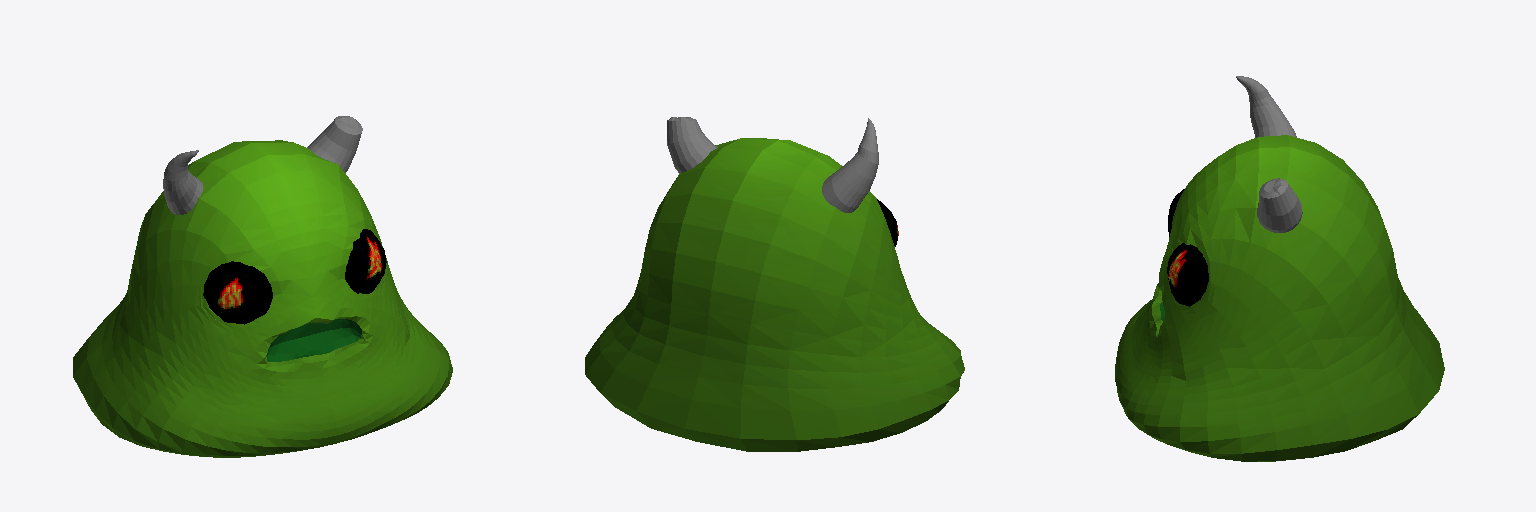
3 renders of one model, left to right at view 1: azimuth 30°, elevation 25°; view 2: azimuth 150°, elevation 25°; view 3: azimuth 270°, elevation 25°, orthographic.
Visible parts, largest first — view 1: Swarm_Model; view 2: Swarm_Model; view 3: Swarm_Model.
Boxes of the visible parts, x1=… form: Swarm_Model: x1=73, y1=116, x2=452, y2=457; Swarm_Model: x1=585, y1=117, x2=964, y2=451; Swarm_Model: x1=1115, y1=76, x2=1444, y2=461.
Size of the model in its own units: 10.23 by 8.52 by 8.99.
1 materials, 1 textured.